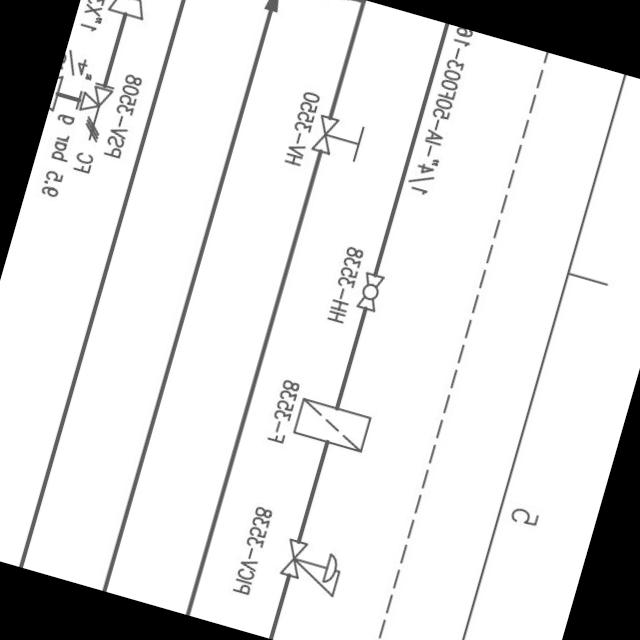BV2: (352, 266, 391, 320)
F2: (288, 386, 380, 459)
HVWT: (308, 106, 374, 172)
PCV: (272, 532, 351, 608)
RPV: (65, 70, 118, 146)
SP: (104, 0, 155, 28)
